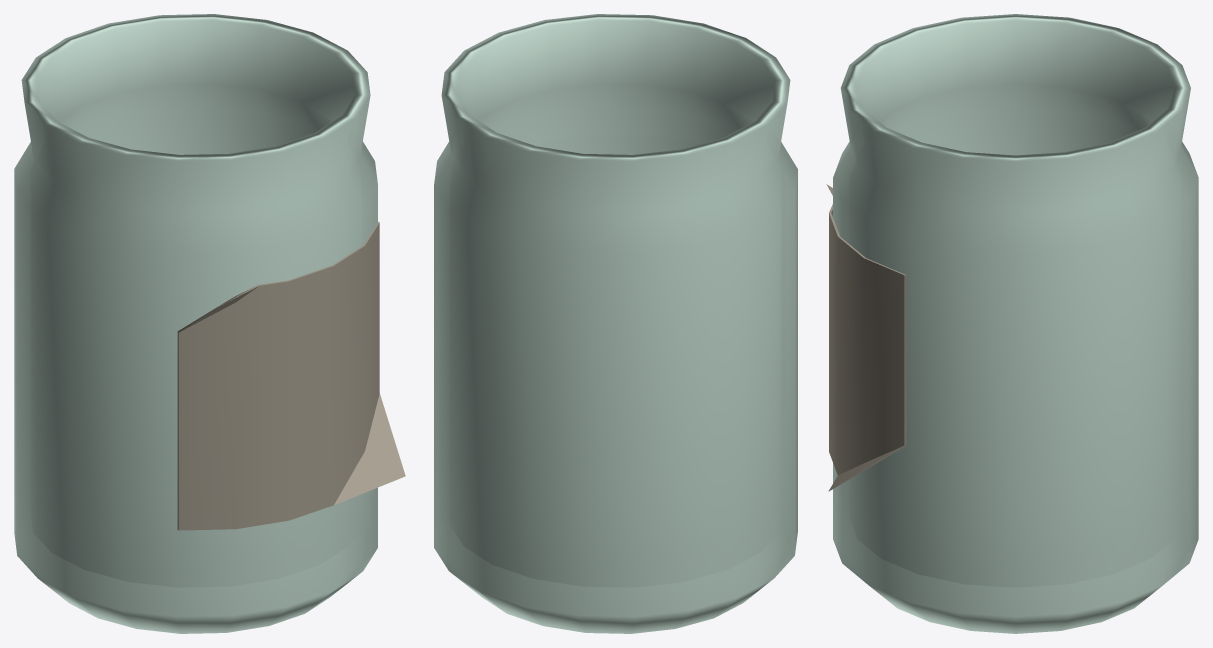
The model's file is Jar_Label_01.fbx.
3 views of the same model, side by side, from view 1: azimuth 30°, elevation 25°; view 2: azimuth 150°, elevation 25°; view 3: azimuth 270°, elevation 25° (orthographic).
Visible parts, largest first — view 1: pCylinder33; view 2: pCylinder33; view 3: pCylinder33.
Boxes of the visible parts, x1,y1,x2,y2 form: pCylinder33: [14, 14, 405, 633]; pCylinder33: [434, 14, 797, 633]; pCylinder33: [826, 14, 1198, 633].
Bounding box in the file's own units: 5.56 × 8.13 × 5.66.
